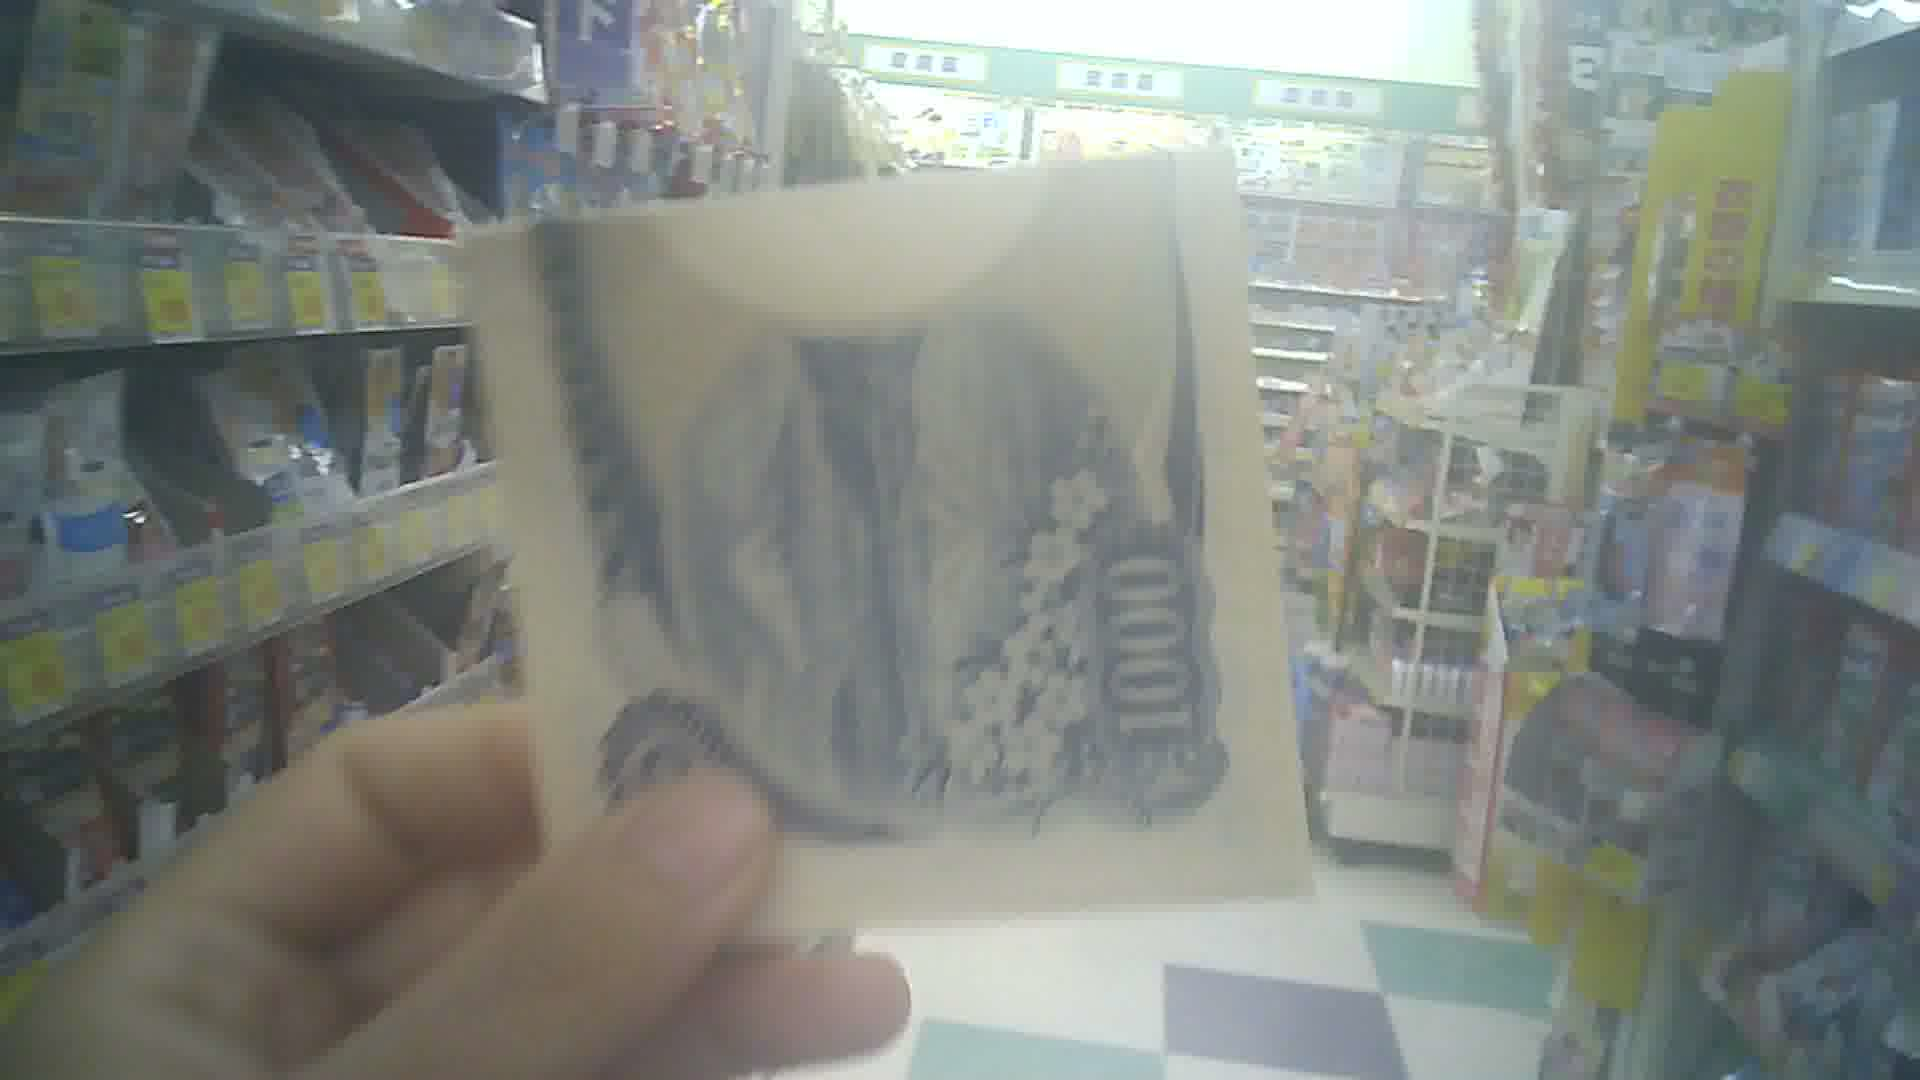1,000 Yen: (443, 150, 1298, 920)
